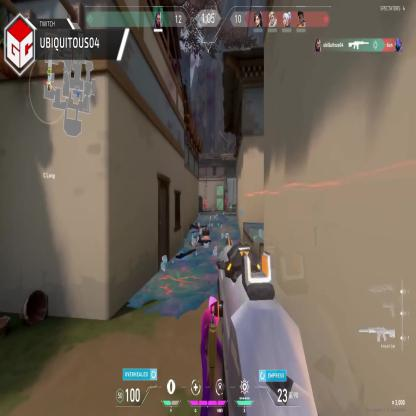enemy: (204, 198, 207, 210), (225, 198, 227, 211)
enemy_head: (204, 198, 206, 202), (226, 198, 228, 201)
